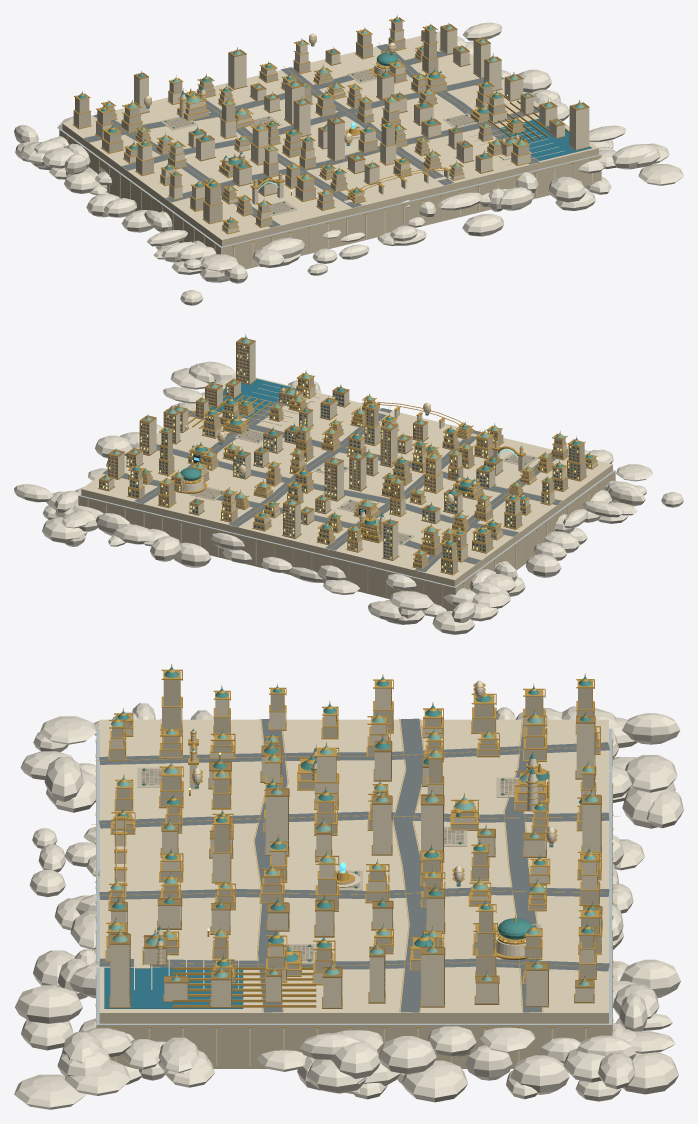
Rendered from piltover.glb.
3 renders of one model, top to bottom at view 1: azimuth 30°, elevation 25°; view 2: azimuth 150°, elevation 25°; view 3: azimuth 270°, elevation 25°, orthographic. The views are drawn at different scales.
Parts seen in each view (by area): view 1: PILTOVER_stone_light, PILTOVER_stone, PILTOVER_cloud, PILTOVER_gold, PILTOVER_road, PILTOVER_brass, PILTOVER_roof, PILTOVER_roof_light, PILTOVER_water, PILTOVER_paver_light, PILTOVER_stone_cool, PILTOVER_paver; view 2: PILTOVER_stone_light, PILTOVER_cloud, PILTOVER_stone, PILTOVER_gold, PILTOVER_brass, PILTOVER_road, PILTOVER_glass_warm, PILTOVER_roof, PILTOVER_glass_blue, PILTOVER_roof_light, PILTOVER_window_glow, PILTOVER_water (+3 smaller); view 3: PILTOVER_stone_light, PILTOVER_cloud, PILTOVER_stone, PILTOVER_gold, PILTOVER_road, PILTOVER_brass, PILTOVER_roof, PILTOVER_roof_light, PILTOVER_stone_cool, PILTOVER_water, PILTOVER_paver_light, PILTOVER_paver.
Part boxes in pixels (x1,y1,x2,y2): PILTOVER_stone_light: [62, 27, 598, 265]; PILTOVER_stone: [59, 21, 601, 273]; PILTOVER_cloud: [14, 22, 683, 305]; PILTOVER_gold: [66, 14, 593, 246]; PILTOVER_road: [83, 44, 539, 227]; PILTOVER_brass: [134, 23, 590, 196]; PILTOVER_roof: [78, 16, 519, 223]; PILTOVER_roof_light: [105, 24, 584, 205]; PILTOVER_water: [498, 118, 591, 160]; PILTOVER_paver_light: [160, 68, 477, 215]; PILTOVER_stone_cool: [59, 129, 601, 247]; PILTOVER_paver: [163, 69, 475, 214]; PILTOVER_stone_light: [82, 341, 612, 607]; PILTOVER_cloud: [14, 361, 683, 634]; PILTOVER_stone: [78, 377, 615, 610]; PILTOVER_gold: [86, 370, 610, 586]; PILTOVER_brass: [98, 334, 503, 560]; PILTOVER_road: [102, 388, 561, 572]; PILTOVER_glass_warm: [100, 344, 561, 567]; PILTOVER_roof: [132, 385, 592, 544]; PILTOVER_glass_blue: [129, 393, 590, 572]; PILTOVER_roof_light: [103, 336, 563, 553]; PILTOVER_window_glow: [103, 346, 590, 571]; PILTOVER_water: [208, 378, 294, 419]; PILTOVER_stone_light: [96, 680, 612, 1065]; PILTOVER_cloud: [14, 703, 683, 1109]; PILTOVER_stone: [96, 680, 612, 1068]; PILTOVER_gold: [89, 664, 619, 1027]; PILTOVER_road: [99, 718, 609, 1012]; PILTOVER_brass: [109, 710, 602, 1008]; PILTOVER_roof: [112, 666, 596, 966]; PILTOVER_roof_light: [109, 712, 598, 986]; PILTOVER_stone_cool: [96, 728, 612, 1024]; PILTOVER_water: [104, 967, 243, 1008]; PILTOVER_paver_light: [137, 767, 541, 963]; PILTOVER_paver: [141, 769, 537, 960].
Bounding box in the file's own units: 3980 × 735 × 2894.
